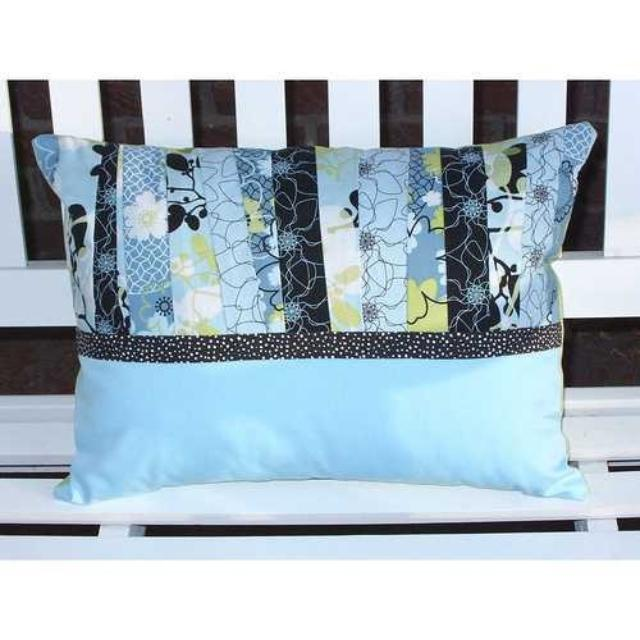pillow: (30, 121, 598, 507)
